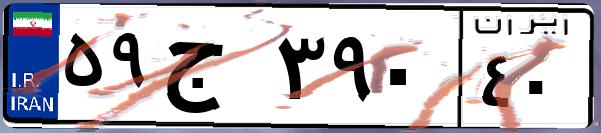0: (385, 28, 445, 110), (525, 38, 570, 115)
3: (270, 28, 330, 110)
4: (475, 38, 525, 113)
5: (57, 26, 110, 100)
9: (330, 28, 385, 110), (110, 28, 158, 98)
ج: (158, 20, 270, 120)
